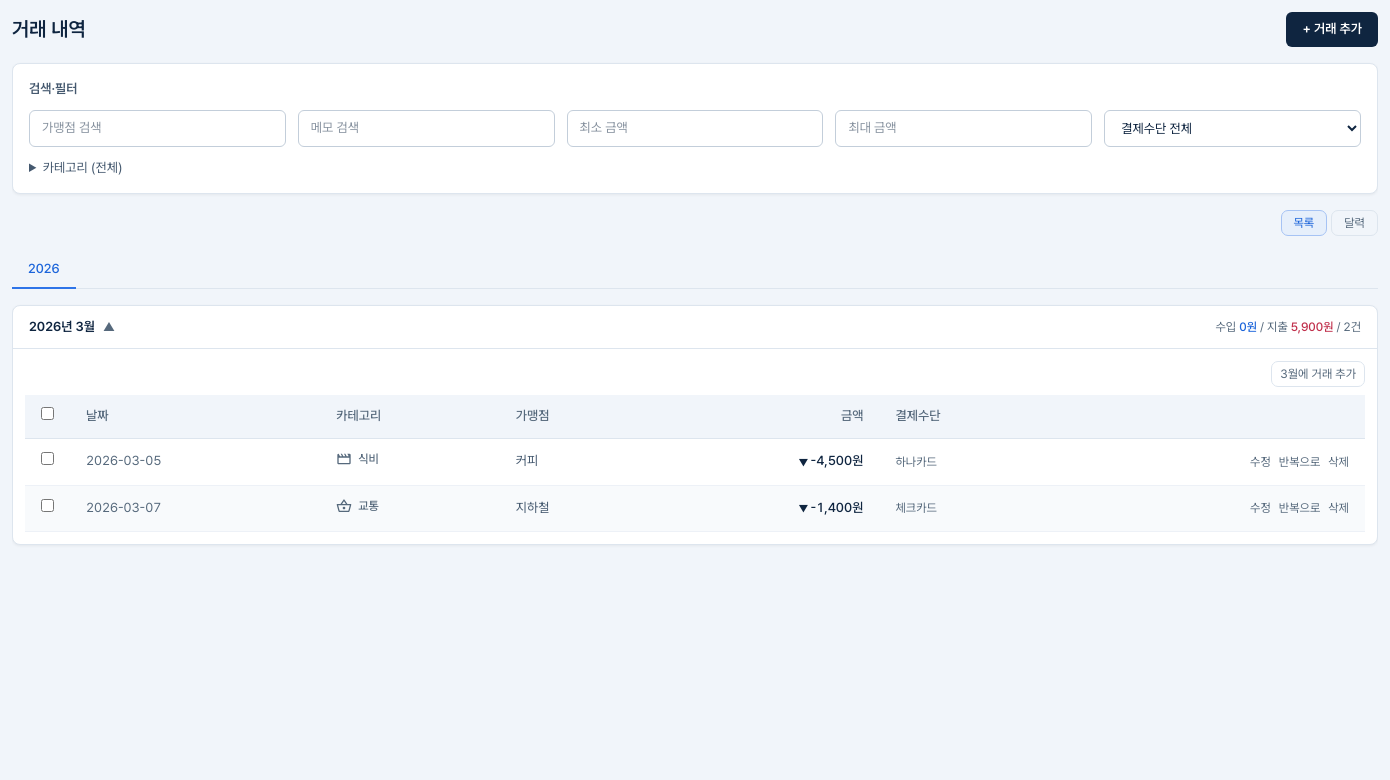
Test: 선택 › 고르면 몇 건인지 알린다
Click the checkbox named "2026-03-05 커피 거래 선택": point(48, 459) [41,452,54,465]
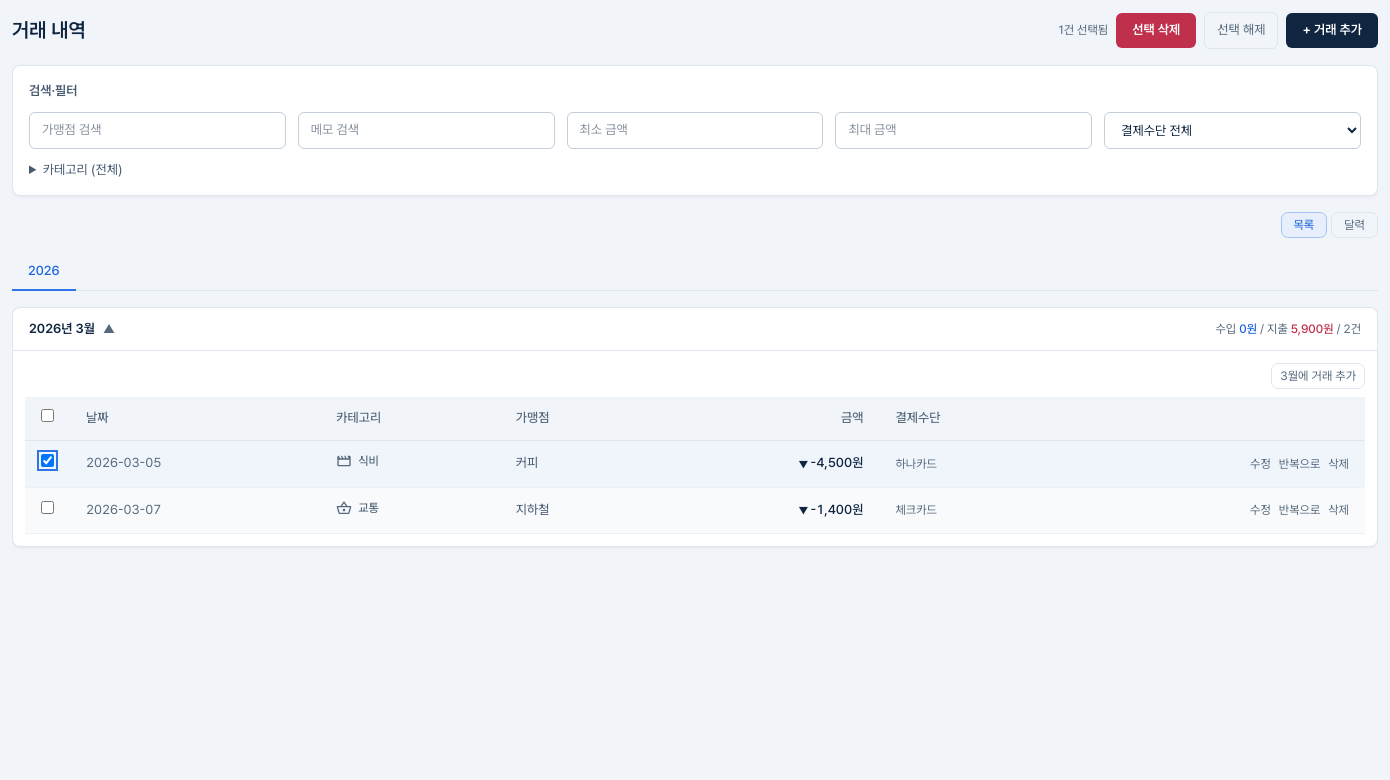
Expected: the text "1건 선택됨" is shown, [1058,22,1108,38]
Expected: the button "선택 삭제" is shown, [1116,13,1196,48]
